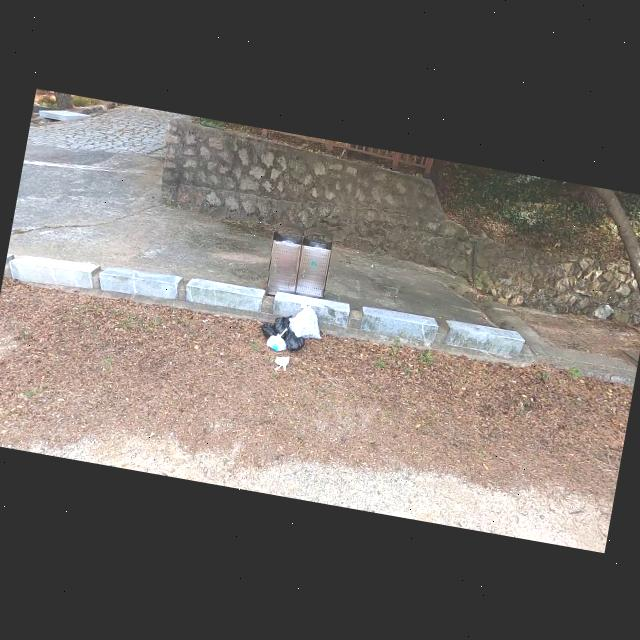trash: (285, 300, 328, 344), (266, 322, 290, 352), (267, 310, 292, 338), (282, 328, 308, 354), (258, 318, 280, 341), (271, 352, 293, 372)
